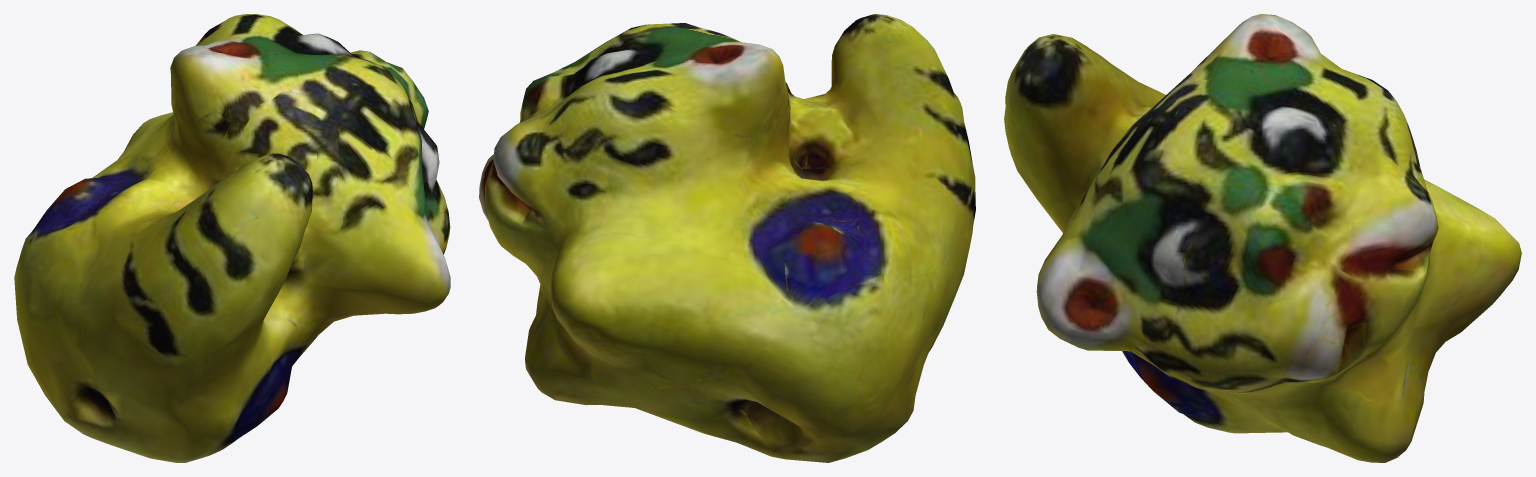
File: hall.glb
3 views of the same model, side by side, from view 1: azimuth 30°, elevation 25°; view 2: azimuth 150°, elevation 25°; view 3: azimuth 270°, elevation 25° (orthographic). The views are drawn at different scales.
Bounding box in the file's own units: 0.447 × 0.3967 × 0.4471.
Materials: 1 (1 with a texture image).
